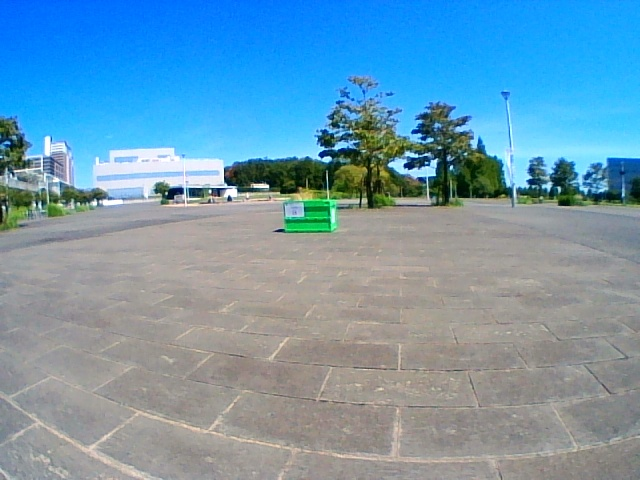green_box: (284, 200, 336, 233)
tag: (285, 204, 303, 217)
